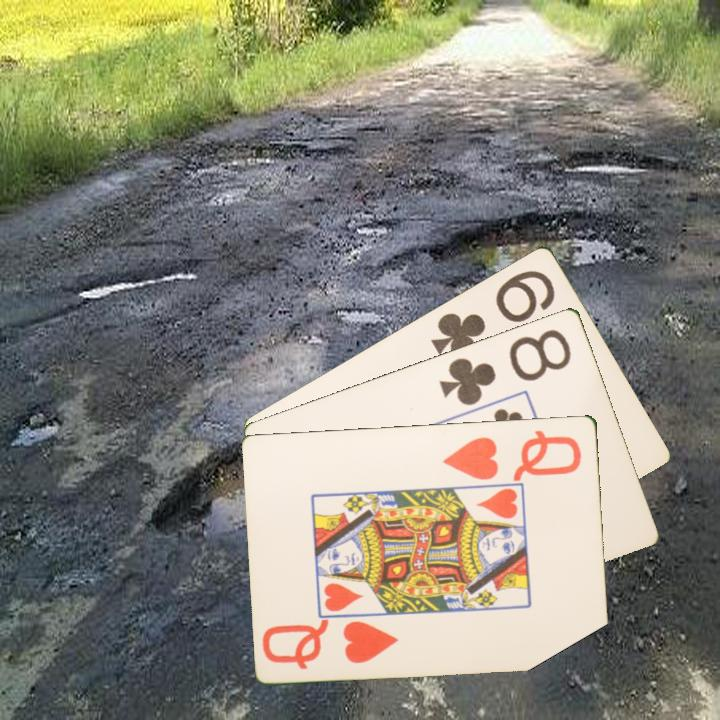6c: (427, 265, 559, 362)
8c: (435, 324, 575, 408)
Qh: (440, 426, 585, 483), (258, 617, 402, 672)
